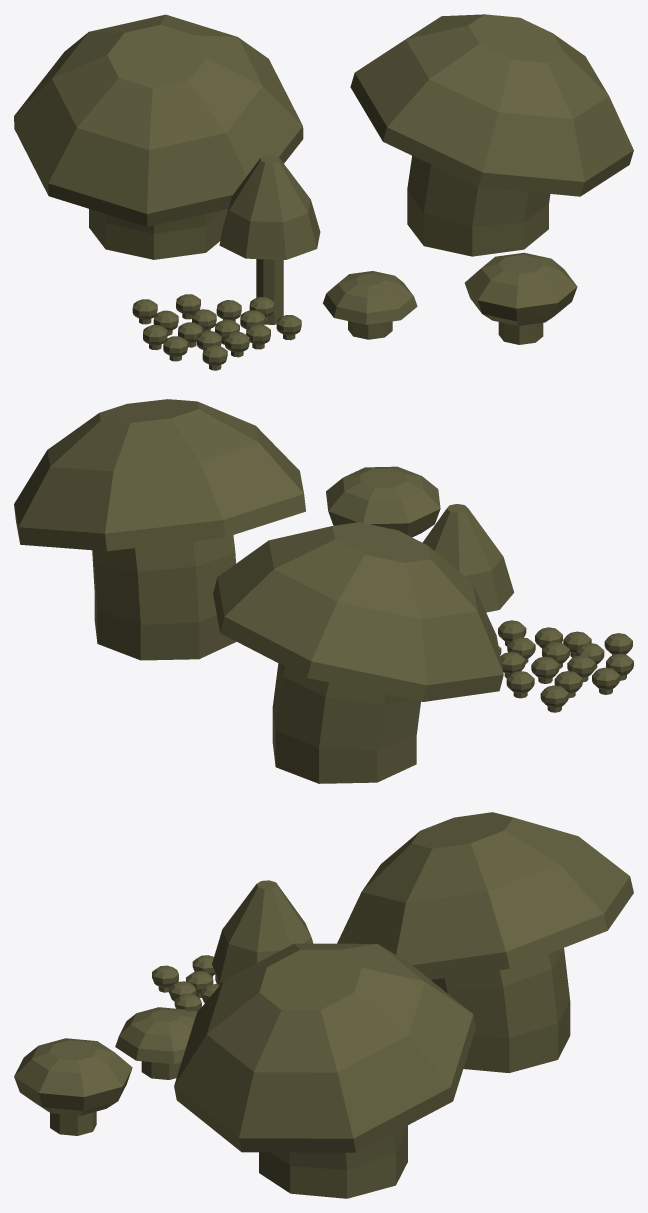
File: object113_mashrooms_0_lev1.glb
3 renders of one model, top to bottom at view 1: azimuth 30°, elevation 25°; view 2: azimuth 150°, elevation 25°; view 3: azimuth 270°, elevation 25°, orthographic. The views are drawn at different scales.
Parts seen in each view (by area): view 1: object113_mashrooms_0_lev1; view 2: object113_mashrooms_0_lev1; view 3: object113_mashrooms_0_lev1.
Boxes of the visible parts, x1,y1,x2,y2 form: object113_mashrooms_0_lev1: (14,14,633,370); object113_mashrooms_0_lev1: (14,399,633,783); object113_mashrooms_0_lev1: (14,812,633,1198).
Size of the model in its own units: 0.4592 by 0.1827 by 0.4546.
